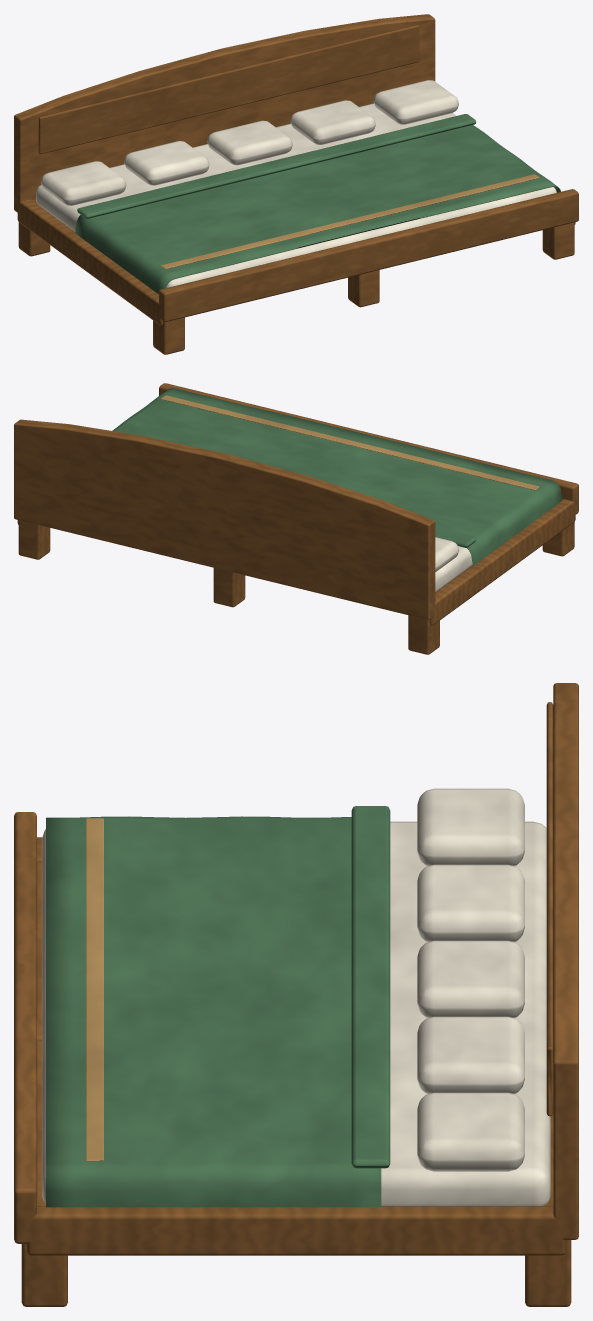
Rendered from Furn_BedLarge.fbx.
The picture shows the model from 3 angles, top to bottom: view 1: azimuth 30°, elevation 25°; view 2: azimuth 150°, elevation 25°; view 3: azimuth 270°, elevation 25°; orthographic projection. The views are drawn at different scales.
Parts seen in each view (by area): view 1: Furn_BedLarge_Mesh; view 2: Furn_BedLarge_Mesh; view 3: Furn_BedLarge_Mesh.
Part boxes in pixels (x1=…): Furn_BedLarge_Mesh: x1=14, y1=14, x2=578, y2=354; Furn_BedLarge_Mesh: x1=14, y1=383, x2=578, y2=654; Furn_BedLarge_Mesh: x1=14, y1=683, x2=578, y2=1306.
Bounding box in the file's own units: 3.5 × 1.2 × 2.2.
4 materials, 4 textured.
